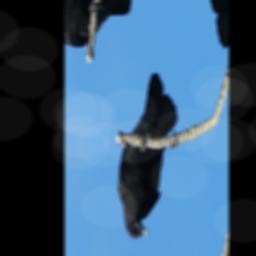Crow: (98, 61, 197, 254)
